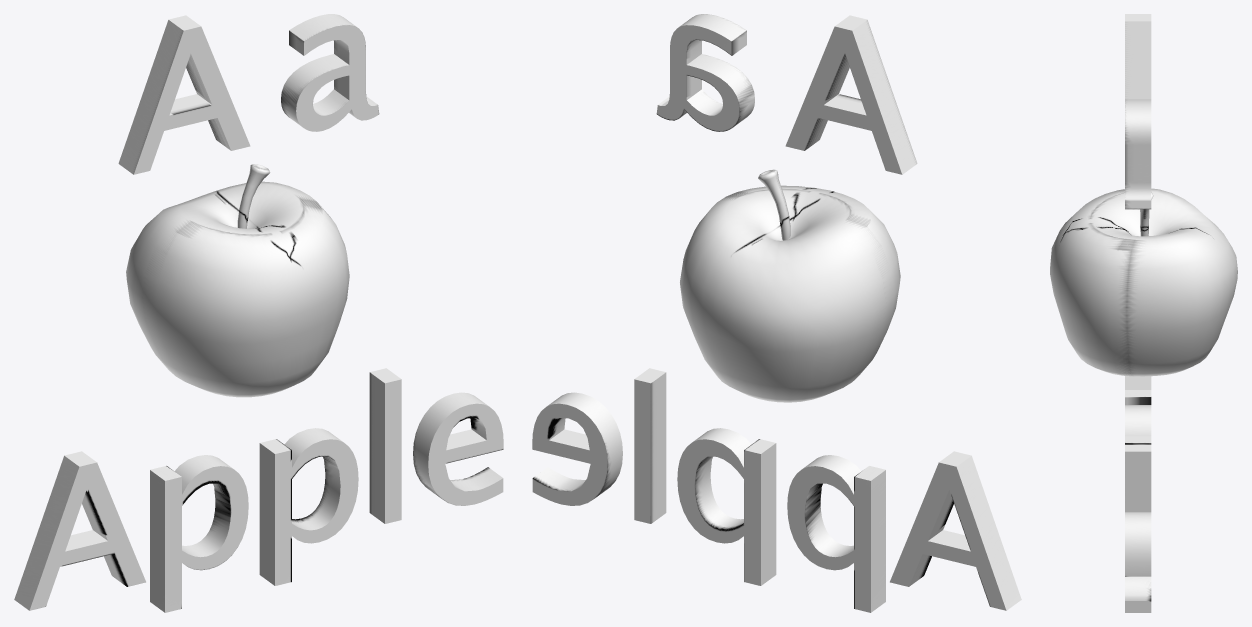
Rendered from apple_ar.fbx.
The picture shows the model from 3 angles, left to right: view 1: azimuth 30°, elevation 25°; view 2: azimuth 150°, elevation 25°; view 3: azimuth 270°, elevation 25°; orthographic projection. The views are drawn at different scales.
Visible parts, largest first — view 1: A1; view 2: A1; view 3: A1.
Part boxes in pixels (<box>): A1: <box>14,14,503,612</box>; A1: <box>532,14,1021,612</box>; A1: <box>1050,14,1237,612</box>.
Bounding box in the file's own units: 91.92 × 107 × 36.61.
Materials: 1 (1 with a texture image).
